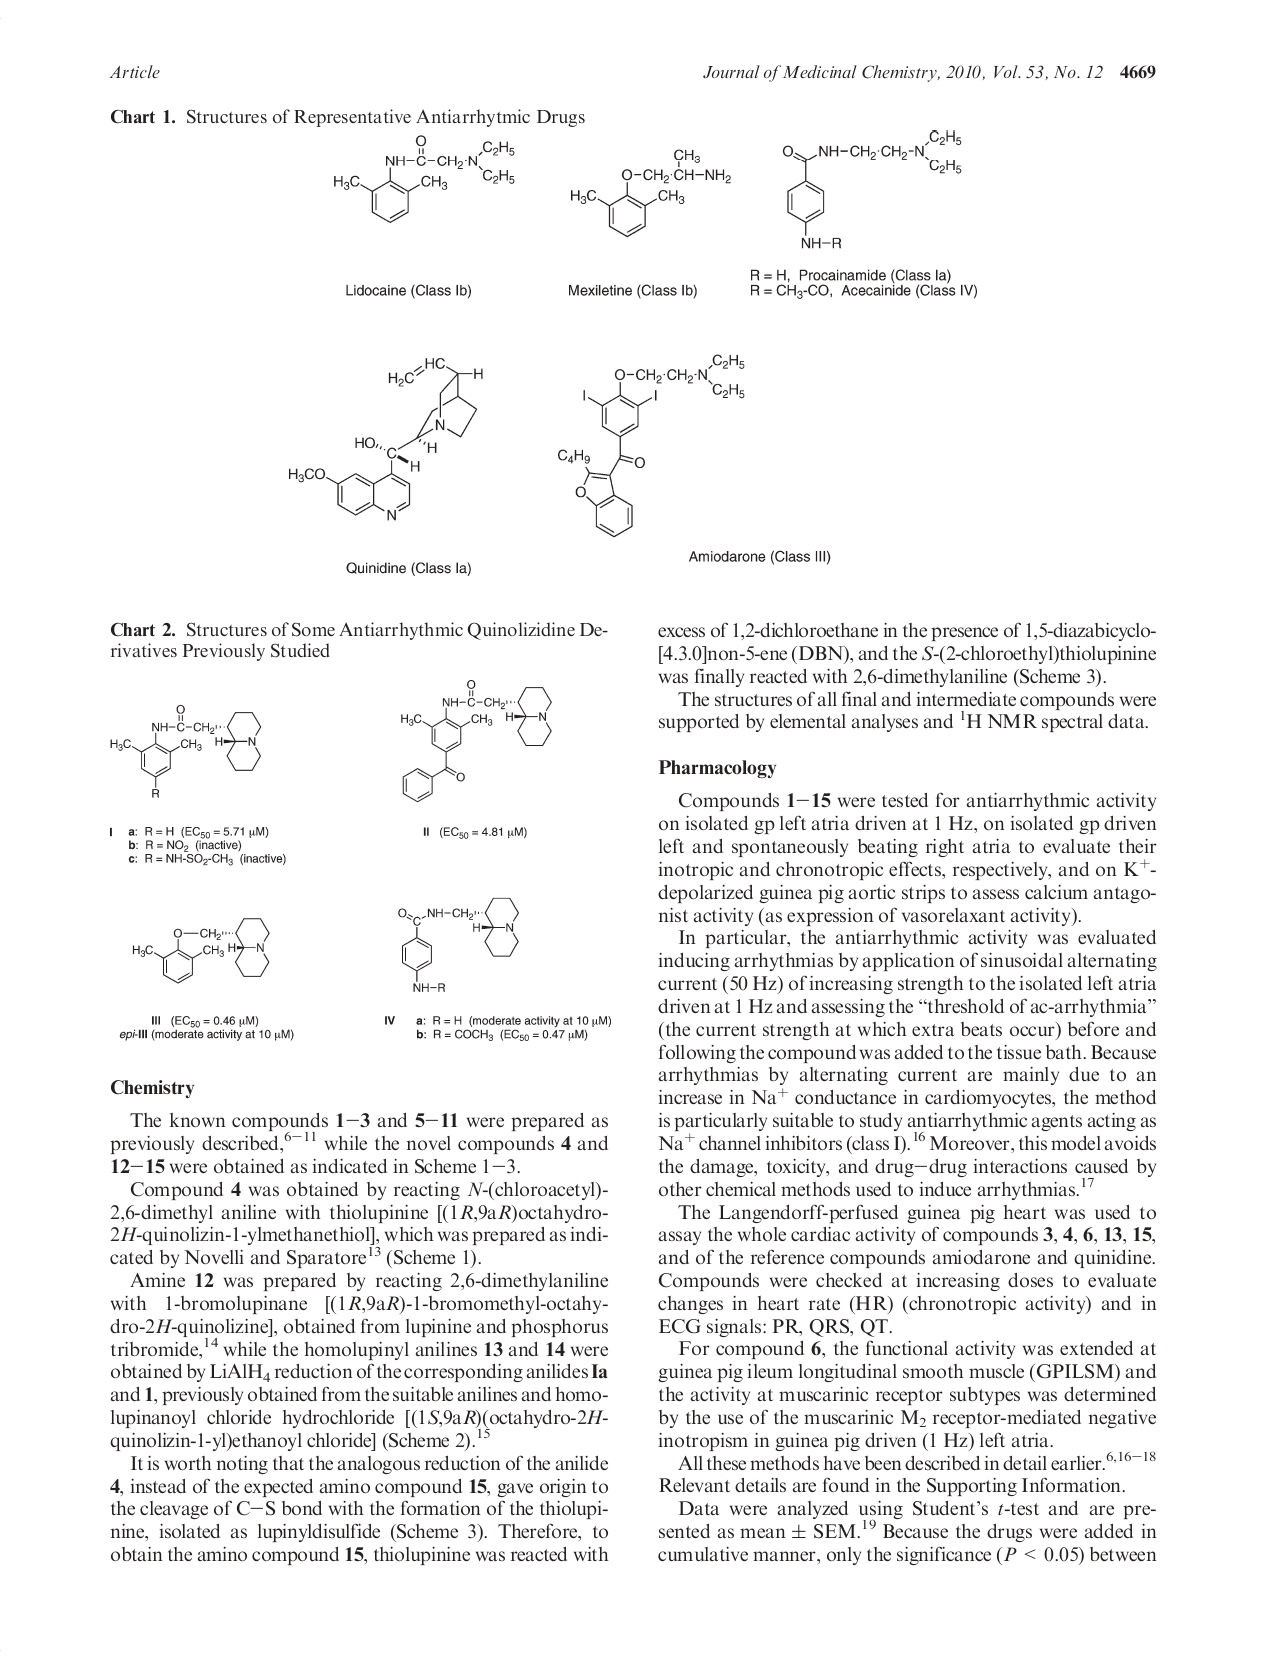exist_molecular: (559, 351, 747, 539), (287, 356, 487, 521), (782, 128, 965, 249), (399, 678, 555, 806), (332, 133, 519, 223), (108, 702, 265, 801), (570, 149, 733, 239), (396, 894, 519, 993), (130, 916, 273, 985)
